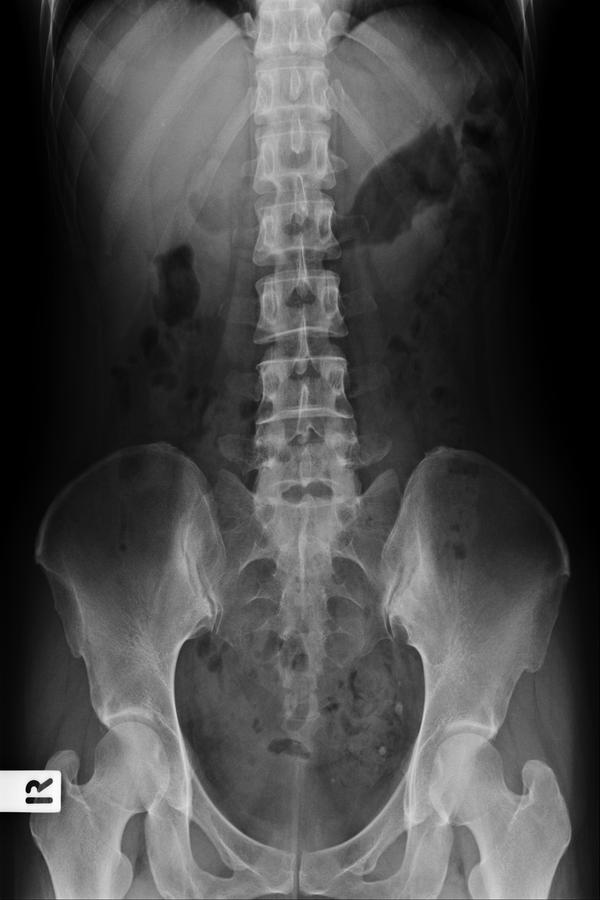lumbar scoliosis: (242, 11, 371, 558)
